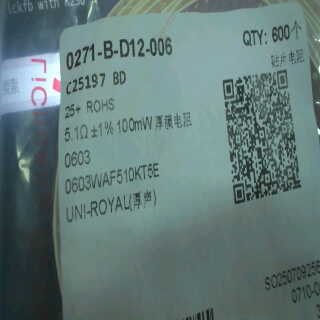5.1R: (60, 120, 90, 149)
